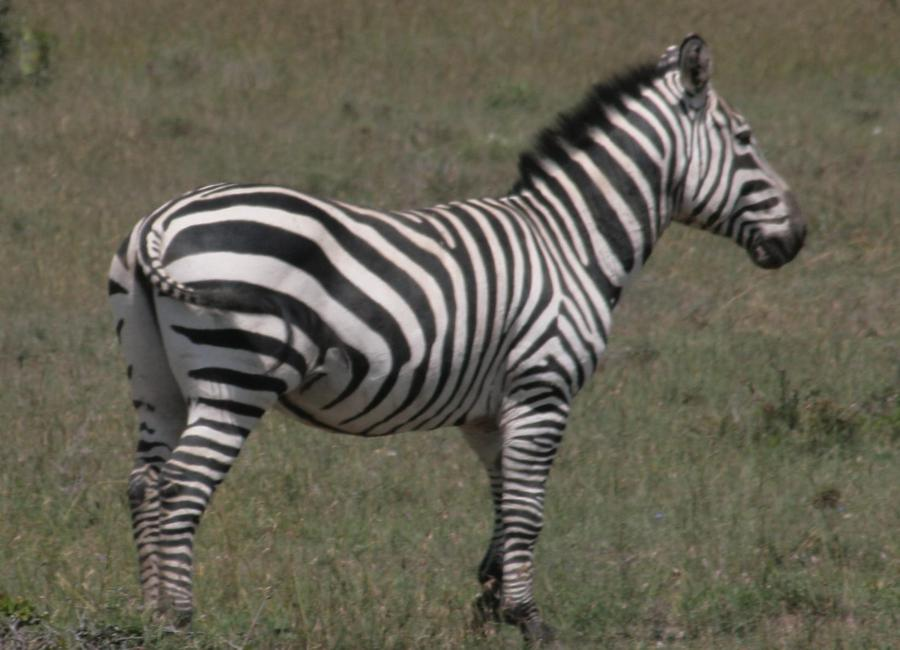zebra_plains: (156, 150, 631, 454)
